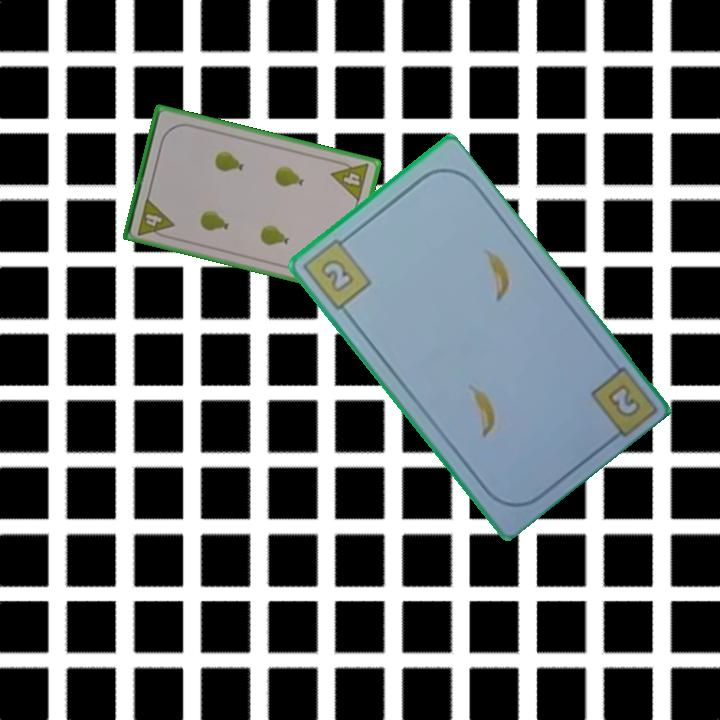2b: (299, 230, 375, 314), (603, 380, 644, 421)
4p: (328, 156, 372, 204), (134, 194, 177, 241)
